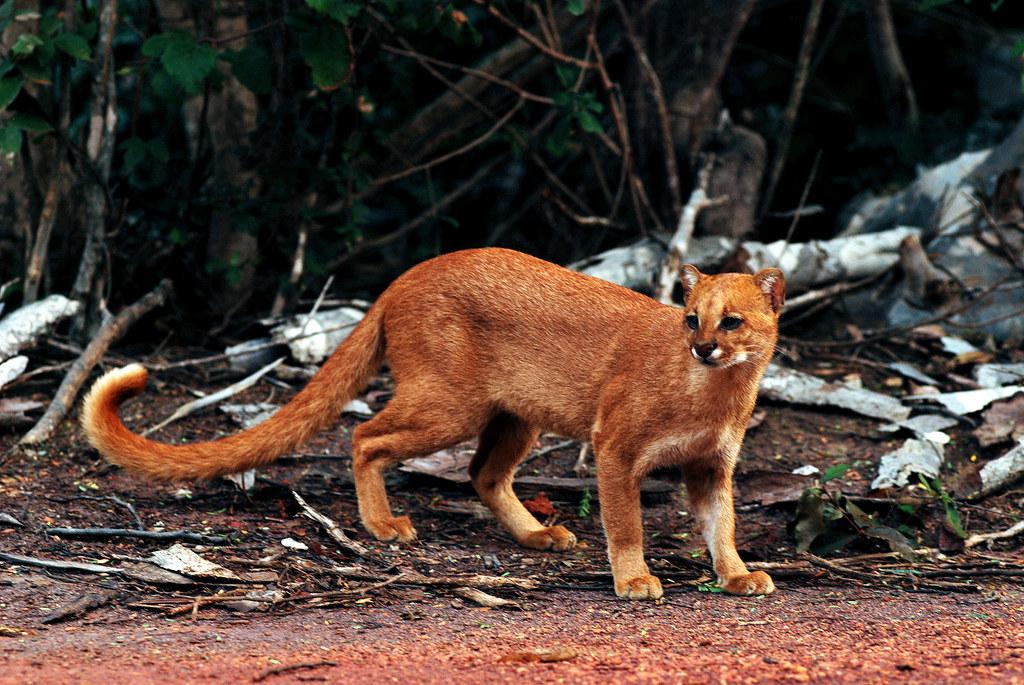Jaguarundi: (50, 232, 829, 609)
